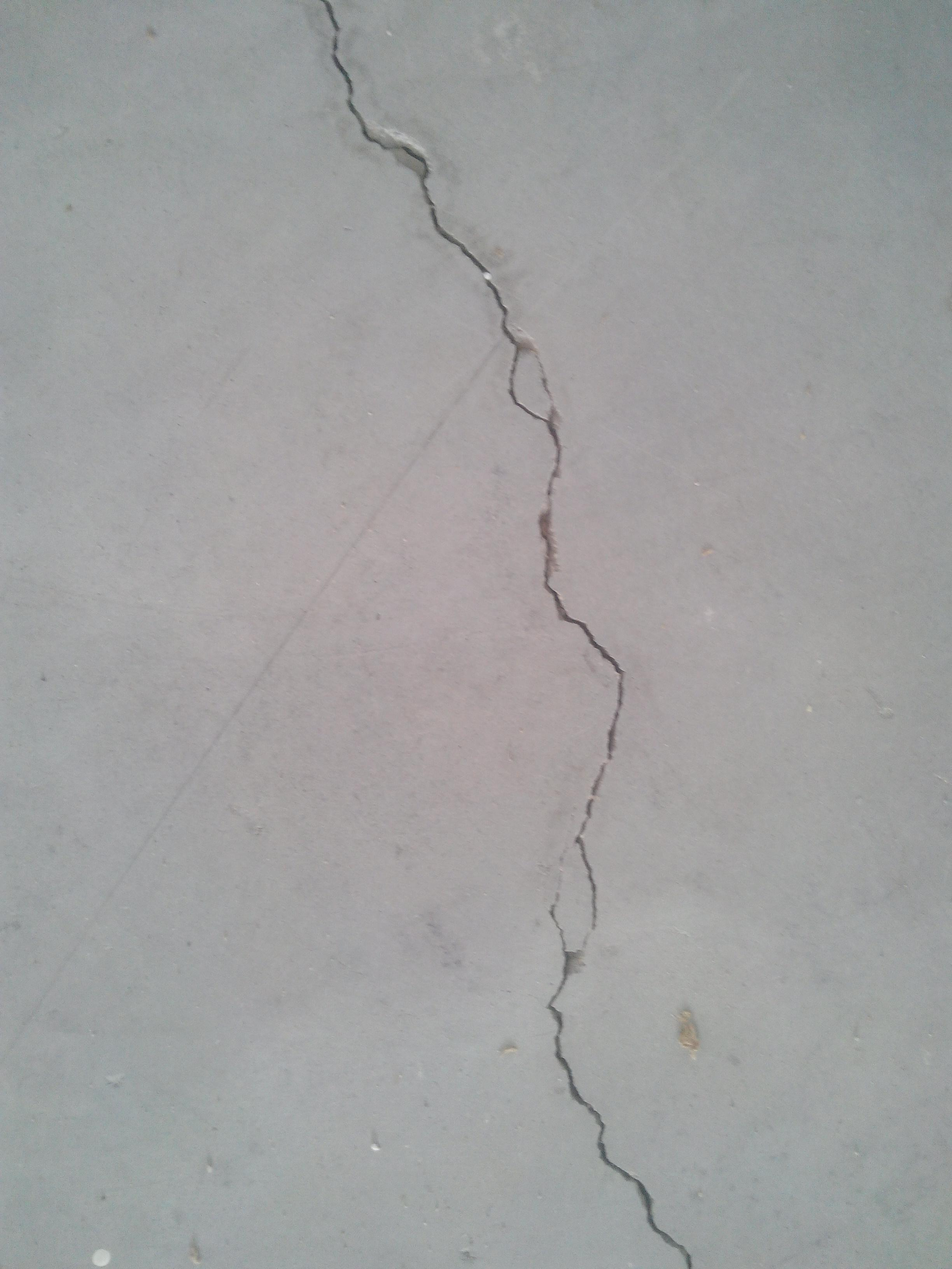Diagonal Crack: (317, 2, 696, 1264)
